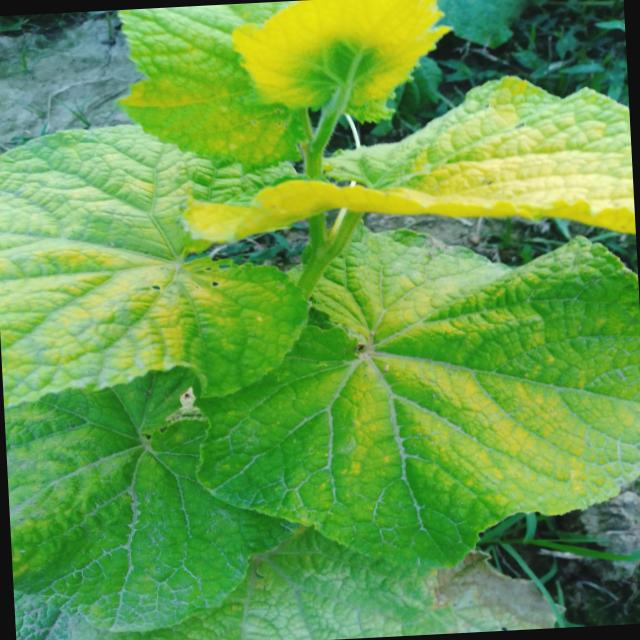cucumber_healthy: (187, 205, 640, 583), (0, 107, 317, 415), (3, 367, 301, 640), (318, 56, 636, 251), (117, 0, 317, 178), (223, 0, 460, 133)
